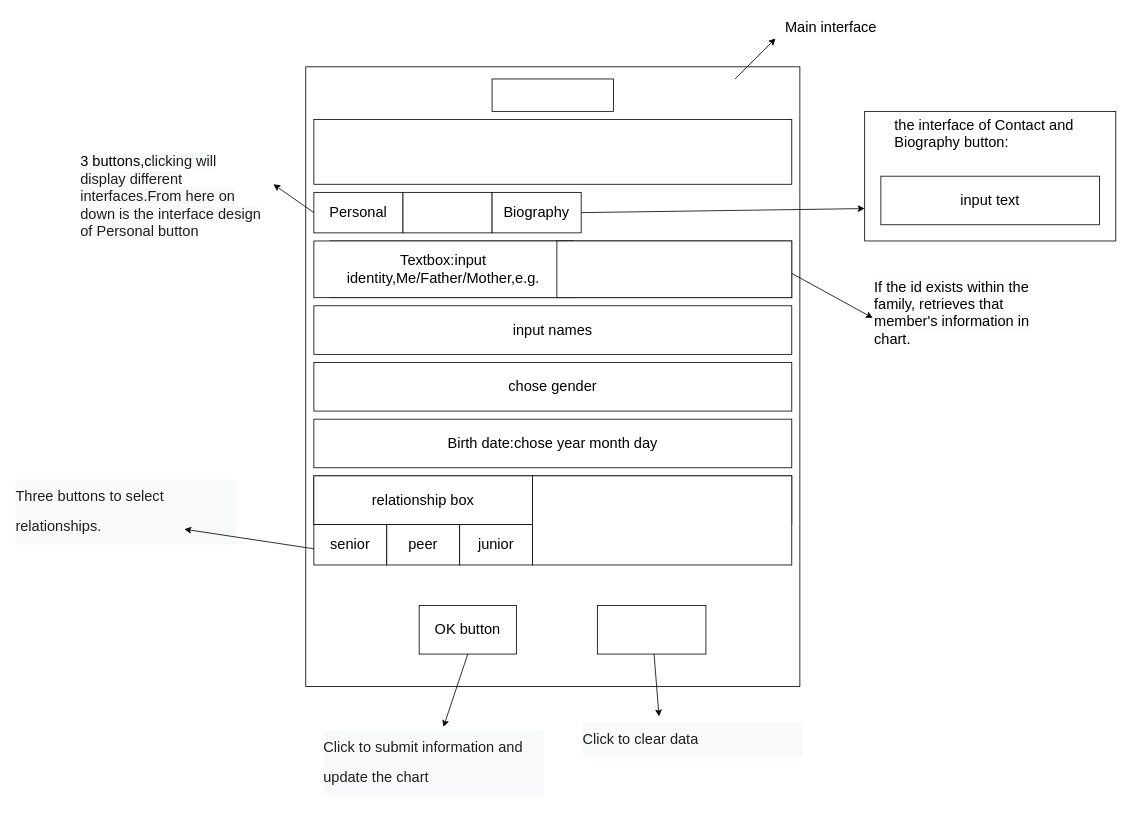
Image size: 1130x821. Some labels were removed from this diagram. The box of each missing label's shape, as (x1, y1, x2, y2) in pixels:
Cancel button: (597, 605, 706, 654)
Chart:to show the person information or family tree: (313, 119, 792, 184)
Contact: (402, 192, 492, 233)
input ids: (532, 475, 792, 565)
Show info button: (556, 240, 792, 298)
Title: Family tree:: (491, 78, 614, 111)
